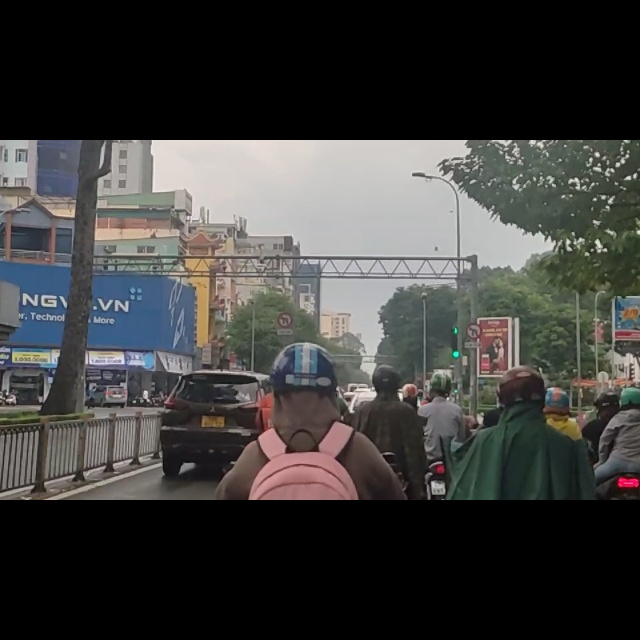bien_cam: (466, 325, 483, 357), (276, 305, 293, 337)
